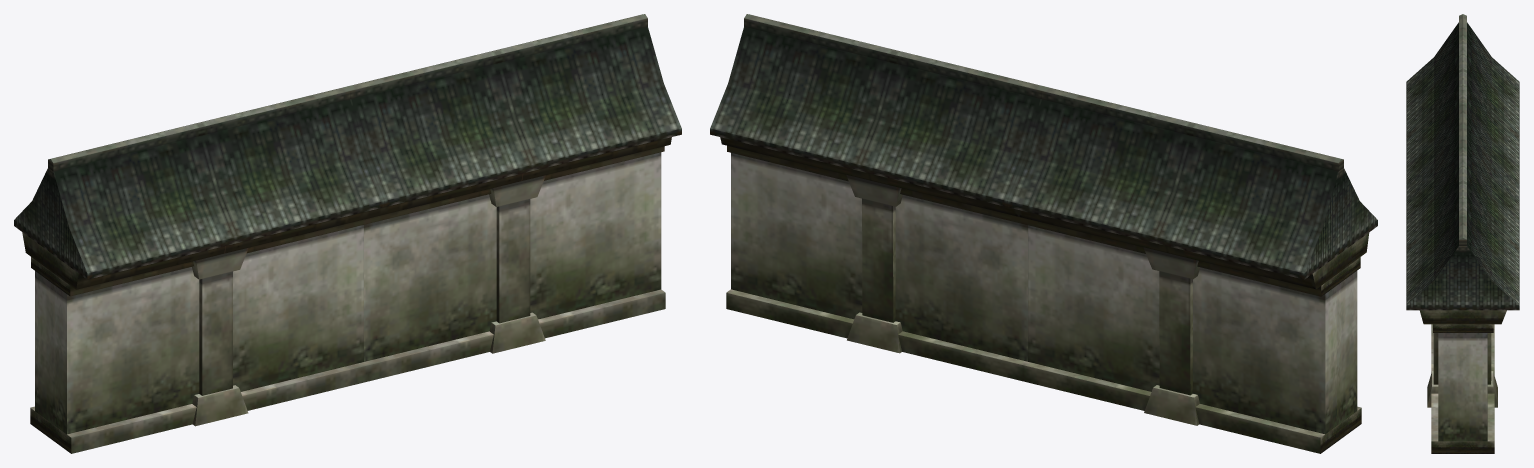
File: ob-10-02-wall-lin2.glb
3 renders of one model, left to right at view 1: azimuth 30°, elevation 25°; view 2: azimuth 150°, elevation 25°; view 3: azimuth 270°, elevation 25°, orthographic. The views are drawn at different scales.
Parts seen in each view (by area): view 1: b1-038-wall-lin2; view 2: b1-038-wall-lin2; view 3: b1-038-wall-lin2.
Part boxes in pixels (x1,y1,x2,y2): b1-038-wall-lin2: [14, 14, 681, 453]; b1-038-wall-lin2: [710, 14, 1377, 453]; b1-038-wall-lin2: [1406, 14, 1519, 453].
Bounding box in the file's own units: 10 × 4.5 × 2.13.
1 material, 1 textured.
